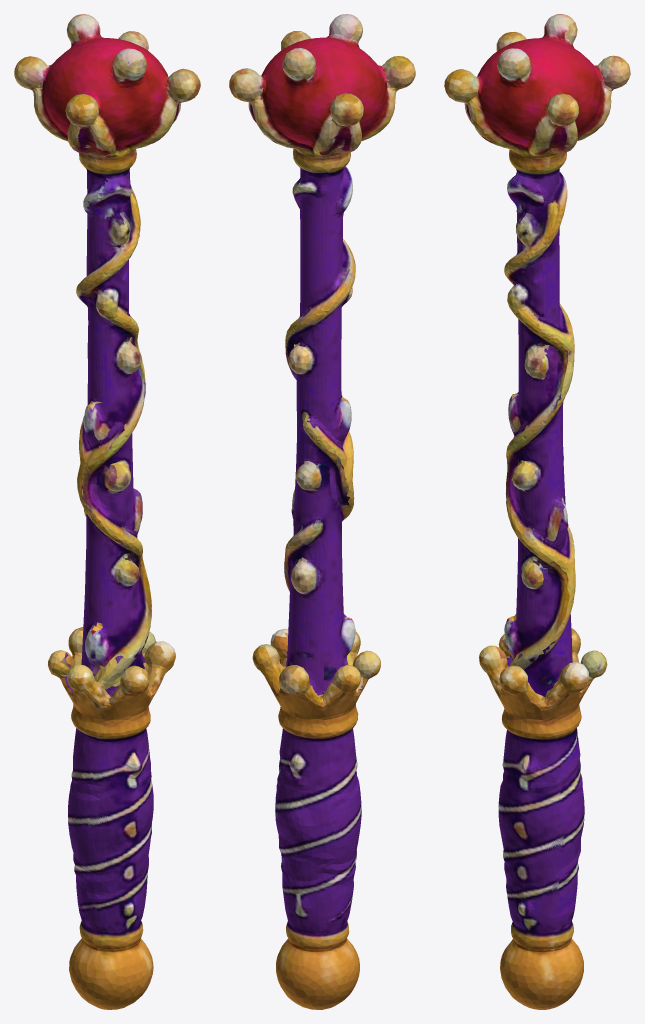
Rendered from wand_royal.glb.
3 views of the same model, side by side, from view 1: azimuth 30°, elevation 25°; view 2: azimuth 150°, elevation 25°; view 3: azimuth 330°, elevation 25° (orthographic).
Parts seen in each view (by area): view 1: tmp8rqeta_k.ply; view 2: tmp8rqeta_k.ply; view 3: tmp8rqeta_k.ply.
Boxes of the visible parts, bbox=[...] form: tmp8rqeta_k.ply: bbox=[14, 14, 200, 1009]; tmp8rqeta_k.ply: bbox=[229, 14, 415, 1009]; tmp8rqeta_k.ply: bbox=[444, 14, 630, 1009].
Bounding box in the file's own units: 0.1406 × 1 × 0.1273.
1 material, 1 textured.
